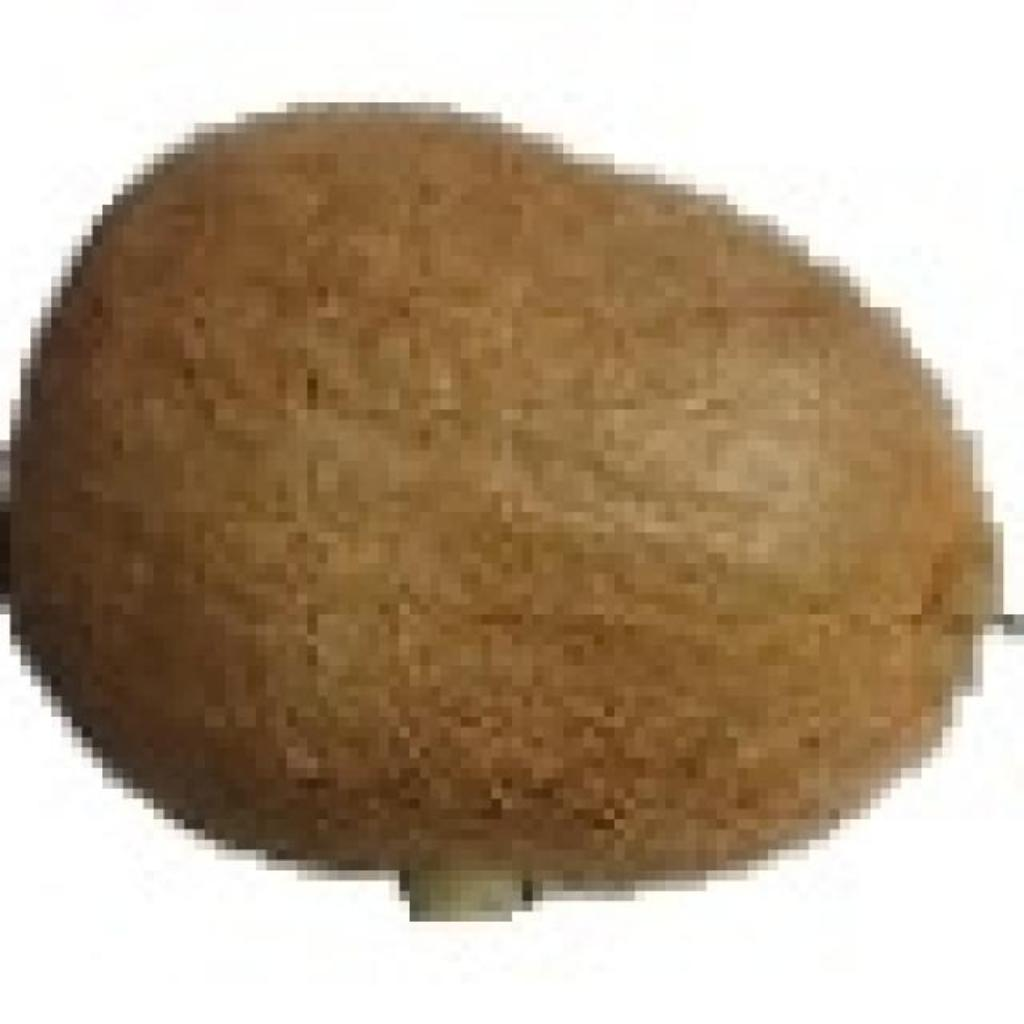kiwi: (31, 92, 1004, 891)
